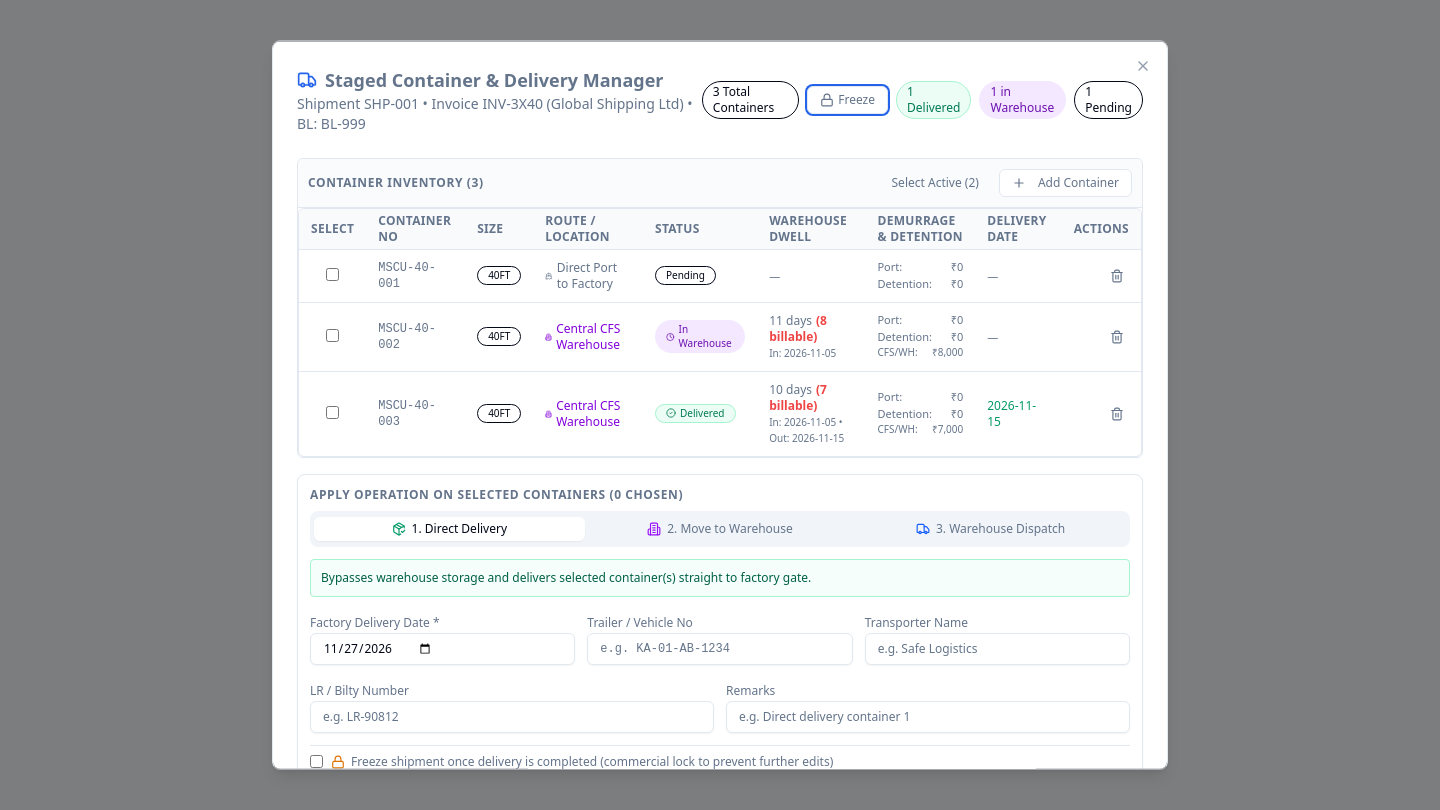
ContainerMovementDialog (Staged Split Delivery & Warehouse Tracking) › submits Direct Delivery for selected container
Later steps or results of the test are not shown.
Expected: the text "MSCU-40-001" is shown, [366,248,465,302]
// Select container 1
Click the checkbox next to "MSCU-40-001" at (333, 274), box [326,267,339,280]
(page scrolled)
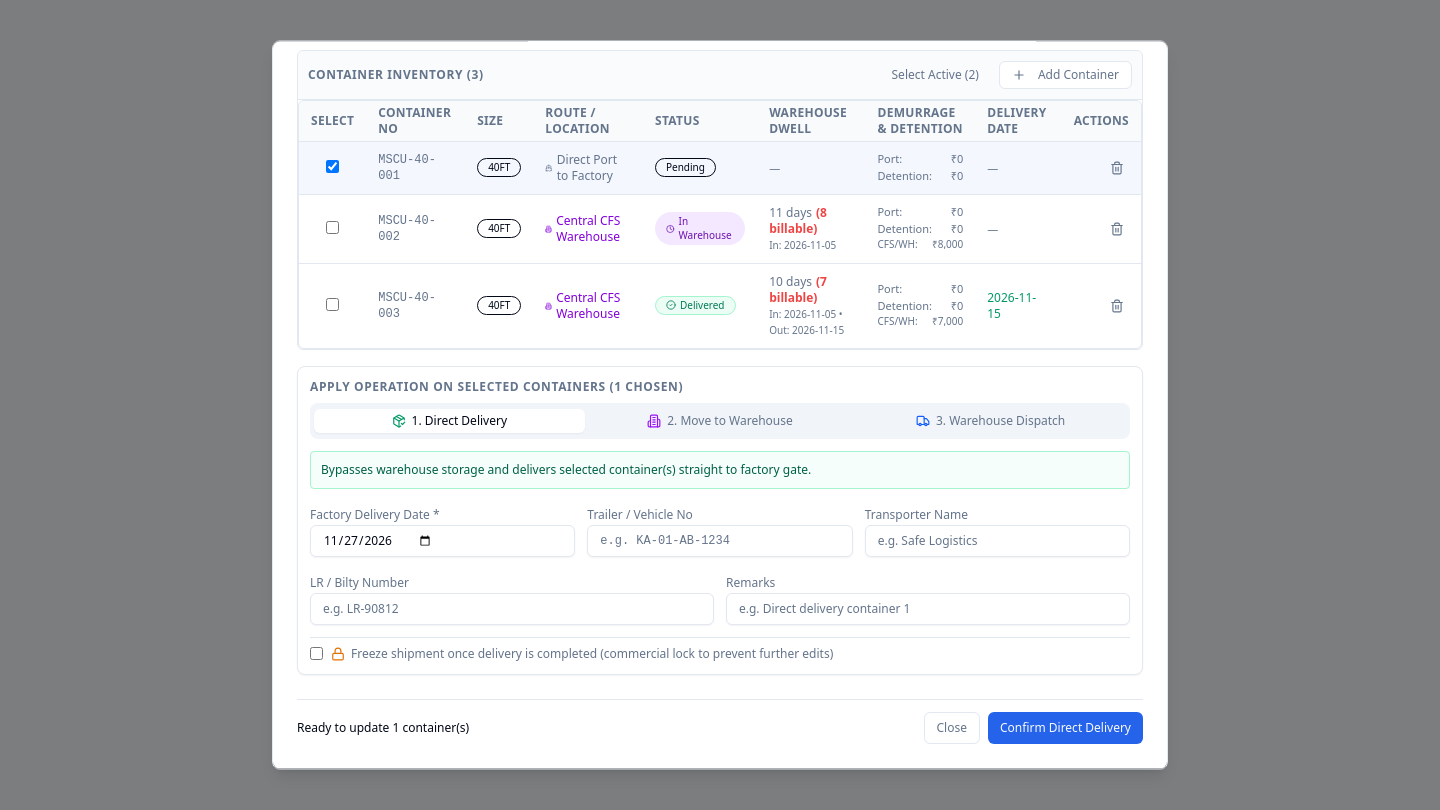
Expected: the button "Confirm Direct Delivery" is enabled, [988,712,1143,744]
